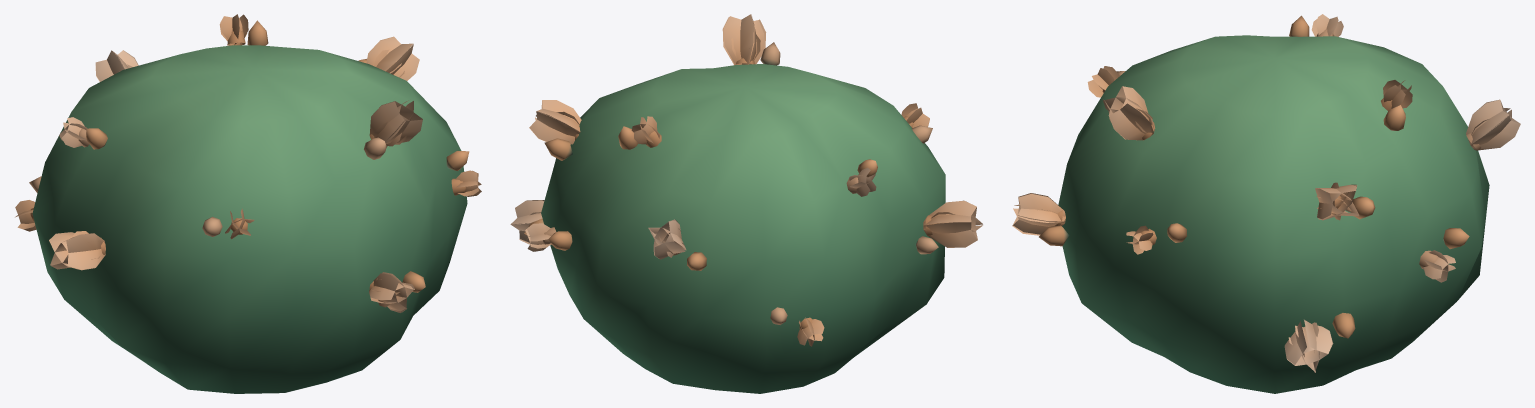
Rendered from rose_apricot.glb.
The picture shows the model from 3 angles, left to right: view 1: azimuth 30°, elevation 25°; view 2: azimuth 150°, elevation 25°; view 3: azimuth 270°, elevation 25°; orthographic projection. The views are drawn at different scales.
Visible parts, largest first — view 1: rose_apricot; view 2: rose_apricot; view 3: rose_apricot.
Boxes of the visible parts, <box> form: rose_apricot: <box>15,14,481,393</box>; rose_apricot: <box>510,14,982,393</box>; rose_apricot: <box>1012,14,1520,393</box>.
Size of what is drawn, in the model's own units: 2.14 by 1.2 by 2.05.
